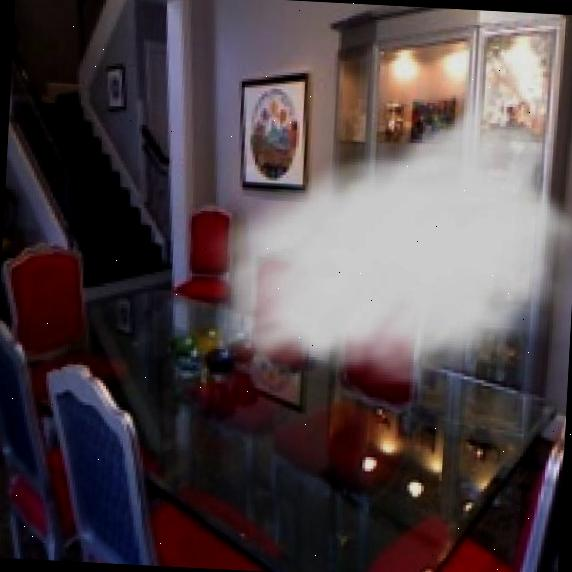smoke: (180, 36, 572, 404)
